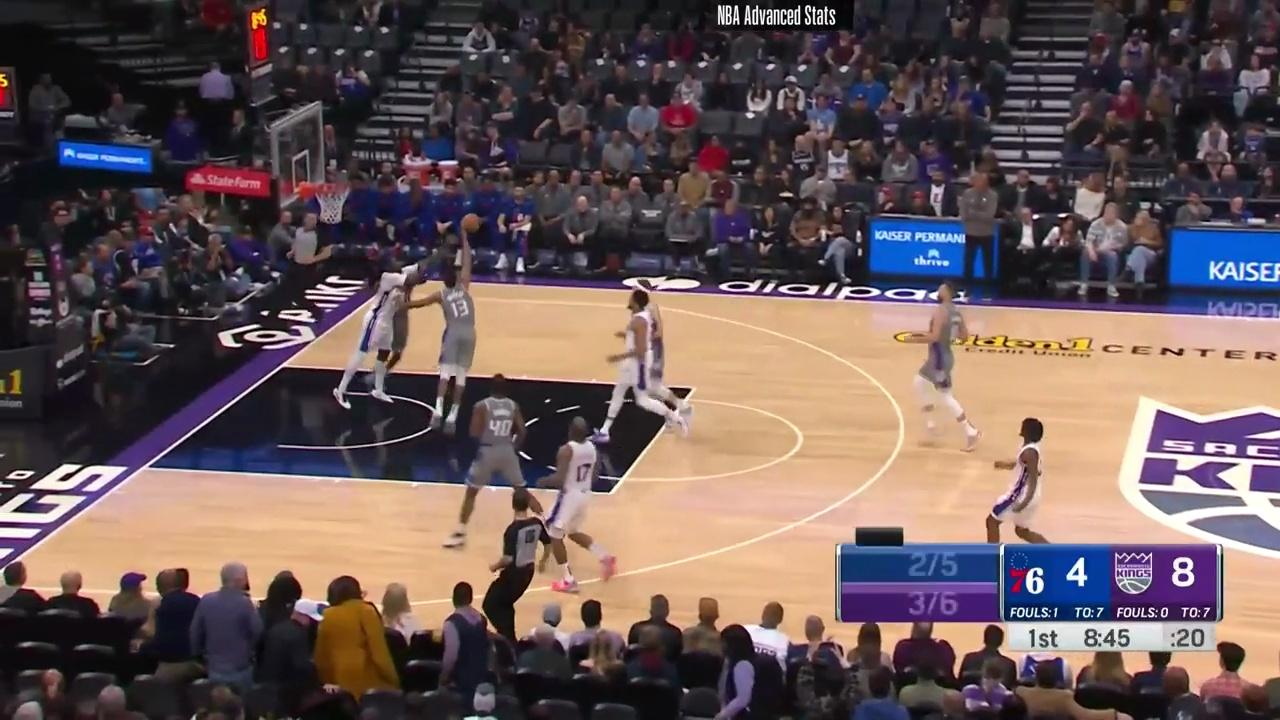Backboard: (266, 98, 325, 217)
Ball: (461, 215, 480, 232)
Basket: (311, 178, 354, 223)
Person: (591, 282, 693, 447), (453, 378, 542, 546), (903, 271, 983, 451), (339, 259, 423, 413), (541, 408, 609, 595), (417, 258, 481, 436), (982, 414, 1052, 544)
Referee: (483, 489, 552, 620), (272, 213, 331, 314)
Shot Clock: (236, 1, 281, 114), (0, 67, 27, 157)
